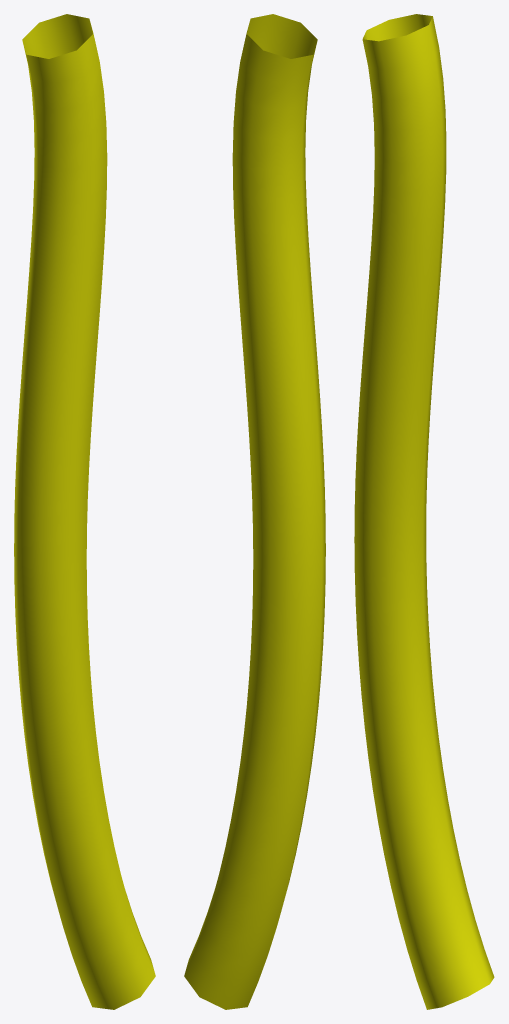
File: Wire1Unit.fbx
The picture shows the model from 3 angles, left to right: view 1: azimuth 30°, elevation 25°; view 2: azimuth 150°, elevation 25°; view 3: azimuth 330°, elevation 25°; orthographic projection.
Visible parts, largest first — view 1: Wire1; view 2: Wire1; view 3: Wire1.
Boxes of the visible parts, box(x1,y1,x2,y2) form: Wire1: box(14, 14, 155, 1009); Wire1: box(184, 14, 325, 1009); Wire1: box(354, 14, 494, 1009).
Size of the model in its own units: 0.0505 by 0.3585 by 0.0248.
